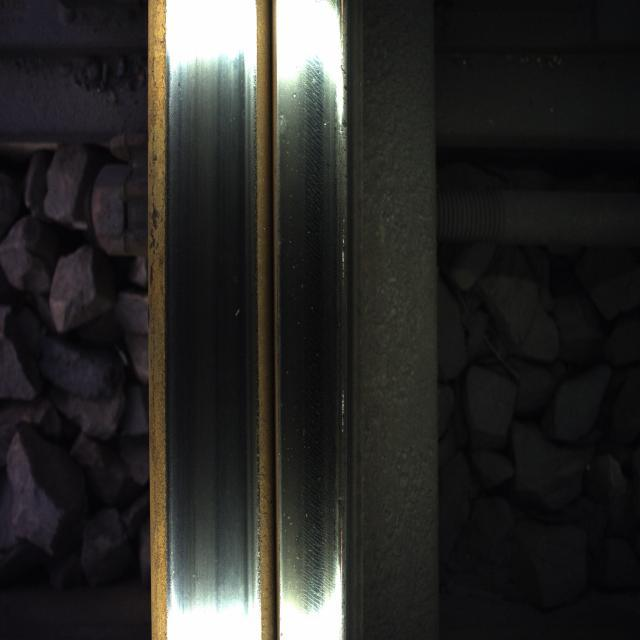break: (175, 70, 250, 520)
normal: (280, 60, 348, 529)
